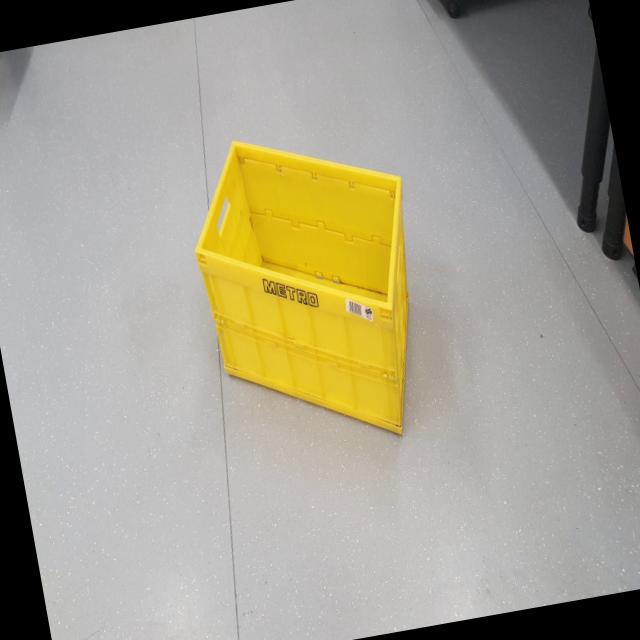box: (162, 96, 454, 483)
